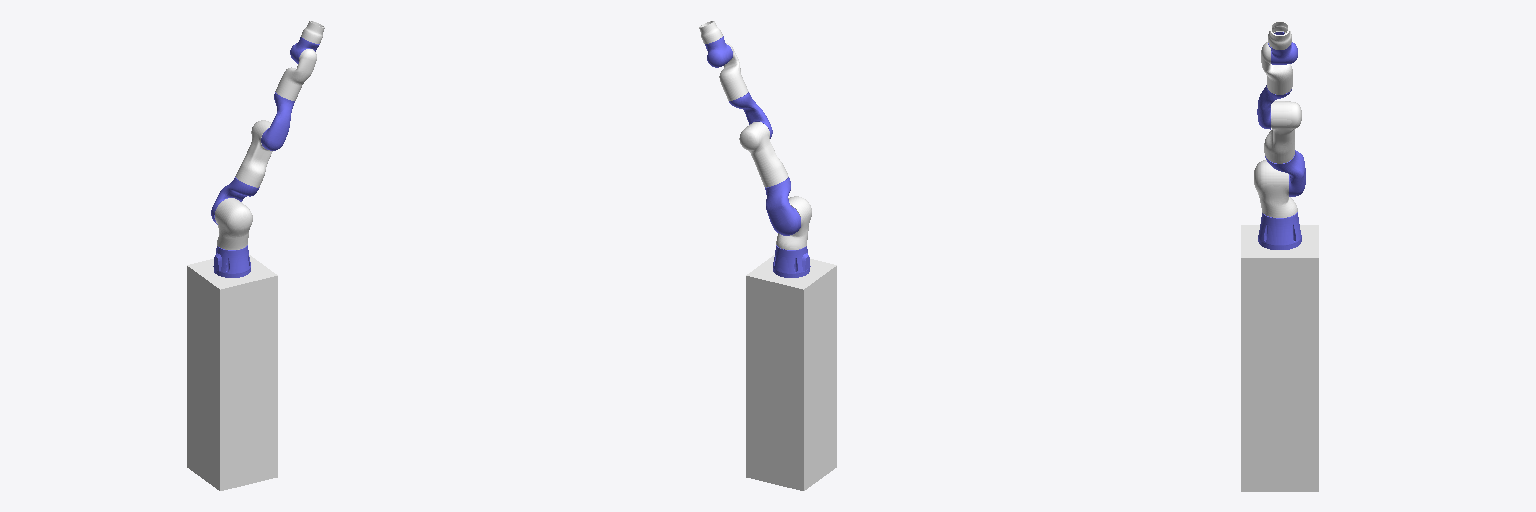
robot.urdf — optimo:
<?xml version="1.0" ?>
<!-- =================================================================================== -->
<!-- |    This document was autogenerated by xacro from optimo.xacro                   | -->
<!-- |    EDITING THIS FILE BY HAND IS NOT RECOMMENDED                                 | -->
<!-- =================================================================================== -->
<robot name="optimo">
  <material name="white">
    <color rgba="1.0 1.0 1.0 1.0"/>
  </material>
  <material name="blue">
    <color rgba="0.5 0.5 1 1.0"/>
  </material>
  <!-- Robot Pedestal -->
  <link name="stand">
    <visual>
      <origin rpy="0 0 0" xyz="0 0 0.0"/>
      <geometry>
        <box size="0.3 0.3 1"/>
      </geometry>
      <material name="white"/>
    </visual>
    <collision>
      <origin rpy="0 0 0" xyz="0 0 0.0"/>
      <geometry>
        <box size="0.3 0.3 1"/>
      </geometry>
    </collision>
    <inertial>
      <origin rpy="0 0 0" xyz="0 0 0.0"/>
      <mass value="1"/>
      <inertia ixx="0.1" ixy="0.0" ixz="0.0" iyy="0.1" iyz="0.0" izz="0.1"/>
    </inertial>
  </link>
  <joint name="stand_to_link0" type="fixed">
    <parent link="stand"/>
    <child link="link0"/>
    <!-- .27 puts the link on the stand -->
    <origin rpy="0 0 0" xyz="0 0 .77"/>
  </joint>
  <!-- Base Link -->
  <link name="link0">
    <visual>
      <geometry>
        <mesh filename="package://meshes/link0.stl"/>
      </geometry>
      <material name="blue"/>
    </visual>
    <collision>
      <geometry>
        <mesh filename="package://meshes/col0.stl"/>
      </geometry>
    </collision>
    <inertial>
      <!-- Doesn't matter, just placeholder values -->
      <origin xyz="0 0 0"/>
      <mass value="1"/>
      <inertia ixx="0.1" ixy="0.1" ixz="0.0" iyy="0.1" iyz="0.0" izz="0"/>
    </inertial>
  </link>
  <!-- Link 1 -->
  <link name="link1">
    <inertial>
      <origin xyz="0 0 0"/>
      <mass value="0.00"/>
      <inertia ixx="0.0" ixy="0.0" ixz="0.0" iyy="0.0" iyz="0.0" izz="0.0"/>
    </inertial>
  </link>
  <joint name="joint1" type="revolute">
    <origin rpy="0 0 0" xyz="0 0 0"/>
    <parent link="link0"/>
    <child link="link1"/>
    <axis xyz="0 0 1"/>
    <limit effort="79" lower="-2.792526902" upper="2.792526902" velocity="10"/>
    <dynamics damping="1" friction="0.1"/>
  </joint>
  <joint name="joint1_passive" type="fixed">
    <origin rpy="1.57 0 0" xyz="0 0 0"/>
    j
        
    <parent link="link1"/>
    <child link="link1_passive"/>
  </joint>
  <link name="link1_passive">
    <visual>
      <geometry>
        <mesh filename="package://meshes/link1.stl"/>
      </geometry>
      <material name="white"/>
    </visual>
    <collision>
      <geometry>
        <mesh filename="package://meshes/col1.stl"/>
      </geometry>
    </collision>
    <inertial>
      <origin xyz="0 -0.01635 0.01549"/>
      <mass value="4.152"/>
      <inertia ixx="0.01" ixy="0.000017" ixz="-.00001" iyy="0.007494" iyz="0.000213" izz="0.009939"/>
    </inertial>
  </link>
  <!-- Link 2 -->
  <link name="link2">
    <inertial>
      <origin xyz="0 0 0"/>
      <mass value="0.00"/>
      <inertia ixx="0.0" ixy="0.0" ixz="0.0" iyy="0.0" iyz="0.0" izz="0.0"/>
    </inertial>
  </link>
  <joint name="joint2" type="revolute">
    <origin rpy="0 0 0" xyz="0 0 0"/>
    <parent link="link1_passive"/>
    <child link="link2"/>
    <axis xyz="0 0 1"/>
    <limit effort="95" lower="1.134464013" upper="4.188790202" velocity="10"/>
    <dynamics damping="1" friction="0.1"/>
  </joint>
  <joint name="joint2_passive" type="fixed">
    <origin rpy="1.57 0 0" xyz="0 0 0"/>
    <parent link="link2"/>
    <child link="link2_passive"/>
  </joint>
  <link name="link2_passive">
    <visual>
      <geometry>
        <mesh filename="package://meshes/link2.stl"/>
      </geometry>
      <material name="blue"/>
    </visual>
    <collision>
      <geometry>
        <mesh filename="package://meshes/col2.stl"/>
      </geometry>
    </collision>
    <inertial>
      <origin xyz="0 -0.05063 0.05677"/>
      <mass value="1.72"/>
      <inertia ixx="0.005694" ixy="0" ixz="0" iyy="0.005902" iyz="0.001353" izz="0.002415"/>
    </inertial>
  </link>
  <!-- Link 3 -->
  <link name="link3">
    <inertial>
      <origin xyz="0 0 0"/>
      <mass value="0.00"/>
      <inertia ixx="0.0" ixy="0.0" ixz="0.0" iyy="0.0" iyz="0.0" izz="0.0"/>
    </inertial>
  </link>
  <joint name="joint3" type="revolute">
    <origin rpy="0 0 0" xyz="0 0 0.4"/>
    <parent link="link2_passive"/>
    <child link="link3"/>
    <axis xyz="0 0 1"/>
    <limit effort="32" lower="-2.792526902" upper="2.792526902" velocity="10"/>
    <dynamics damping="1" friction="0.1"/>
  </joint>
  <joint name="joint3_passive" type="fixed">
    <origin rpy="-1.57 0 0" xyz="0 0 0"/>
    <parent link="link3"/>
    <child link="link3_passive"/>
  </joint>
  <link name="link3_passive">
    <visual>
      <geometry>
        <mesh filename="package://meshes/link3.stl"/>
      </geometry>
      <material name="white"/>
    </visual>
    <collision>
      <geometry>
        <mesh filename="package://meshes/col3.stl"/>
      </geometry>
    </collision>
    <inertial>
      <!-- Inertia values taken from yaml, but these seem like they cannot be
            accurate...-->
      <origin xyz="-0.000039 .098 0"/>
      <mass value="4.310"/>
      <inertia ixx="0.012989" ixy="-0.000015" ixz="-.000003" iyy="0.002584" iyz="0.000632" izz="0.01305"/>
    </inertial>
  </link>
  <!-- Link 4 -->
  <link name="link4">
    <inertial>
      <origin xyz="0 0 0"/>
      <mass value="0.00"/>
      <inertia ixx="0.0" ixy="0.0" ixz="0.0" iyy="0.0" iyz="0.0" izz="0.0"/>
    </inertial>
  </link>
  <joint name="joint4" type="revolute">
    <origin rpy="0 0 0" xyz="0 0 0"/>
    <parent link="link3_passive"/>
    <child link="link4"/>
    <axis xyz="0 0 1"/>
    <limit effort="40" lower="-2.443460951" upper="2.443460951" velocity="10"/>
    <dynamics damping="1" friction="0.1"/>
  </joint>
  <joint name="joint4_passive" type="fixed">
    <origin rpy="1.57 0 0" xyz="0 0 0"/>
    <parent link="link4"/>
    <child link="link4_passive"/>
  </joint>
  <link name="link4_passive">
    <visual>
      <geometry>
        <mesh filename="package://meshes/link4.stl"/>
      </geometry>
      <material name="blue"/>
    </visual>
    <collision>
      <geometry>
        <mesh filename="package://meshes/col4.stl"/>
      </geometry>
    </collision>
    <inertial>
      <origin xyz="-.00001 0.048852 0.0688"/>
      <mass value="1.09"/>
      <inertia ixx="0.004297" ixy="0" ixz="0" iyy="0.004366" iyz="-0.0008" izz="0.000988"/>
    </inertial>
  </link>
  <!-- Link 5 -->
  <link name="link5">
    <inertial>
      <origin xyz="0 0 0"/>
      <mass value="0.00"/>
      <inertia ixx="0.0" ixy="0.0" ixz="0.0" iyy="0.0" iyz="0.0" izz="0.0"/>
    </inertial>
  </link>
  <joint name="joint5" type="revolute">
    <origin rpy="0 0 0" xyz="0 0 0.4"/>
    <parent link="link4_passive"/>
    <child link="link5"/>
    <axis xyz="0 0 1"/>
    <limit effort="15" lower="-2.879793264" upper="2.879793264" velocity="10"/>
    <dynamics damping="1" friction="0.1"/>
  </joint>
  <joint name="joint5_passive" type="fixed">
    <origin rpy="-1.57 0 0" xyz="0 0 0"/>
    <parent link="link5"/>
    <child link="link5_passive"/>
  </joint>
  <link name="link5_passive">
    <visual>
      <geometry>
        <mesh filename="package://meshes/link5.stl"/>
      </geometry>
      <material name="white"/>
    </visual>
    <collision>
      <geometry>
        <mesh filename="package://meshes/col5.stl"/>
      </geometry>
    </collision>
    <inertial>
      <origin xyz=".001262 0.085 0.008"/>
      <mass value="2.23"/>
      <inertia ixx="0.005744" ixy="-0.00021" ixz="-0.000027" iyy="0.0018" iyz="-0.001278" izz="0.005457"/>
    </inertial>
  </link>
  <!-- Link 6 -->
  <link name="link6">
    <inertial>
      <origin xyz="0 0 0"/>
      <mass value="0.00"/>
      <inertia ixx="0.0" ixy="0.0" ixz="0.0" iyy="0.0" iyz="0.0" izz="0.0"/>
    </inertial>
  </link>
  <joint name="joint6" type="revolute">
    <origin rpy="0 0 0" xyz="0 0 0"/>
    <parent link="link5_passive"/>
    <child link="link6"/>
    <axis xyz="0 0 1"/>
    <limit effort="15" lower="-2.007128639" upper="2.007128639" velocity="10"/>
    <dynamics damping="1" friction="0.1"/>
  </joint>
  <joint name="joint6_passive" type="fixed">
    <origin rpy="1.57 0 0" xyz="0 0 0"/>
    <parent link="link6"/>
    <child link="link6_passive"/>
  </joint>
  <link name="link6_passive">
    <visual>
      <geometry>
        <mesh filename="package://meshes/link6.stl"/>
      </geometry>
      <material name="blue"/>
    </visual>
    <collision>
      <geometry>
        <mesh filename="package://meshes/col6.stl"/>
      </geometry>
    </collision>
    <inertial>
      <origin xyz="0 -0.00007 0.010855"/>
      <mass value="1.138"/>
      <inertia ixx="0.000634" ixy="0" ixz="0" iyy="0.000629" iyz="0" izz="0.000546"/>
    </inertial>
  </link>
  <!-- Link 7 -->
  <link name="link7">
    <inertial>
      <origin xyz="0 0 0"/>
      <mass value="0.00"/>
      <inertia ixx="0.0" ixy="0.0" ixz="0.0" iyy="0.0" iyz="0.0" izz="0.0"/>
    </inertial>
  </link>
  <joint name="joint7" type="revolute">
    <origin rpy="0 0 0" xyz="0 0 0"/>
    <parent link="link6_passive"/>
    <child link="link7"/>
    <axis xyz="0 0 1"/>
    <limit effort="15" lower="-2.617993876" upper="2.617993876" velocity="10"/>
    <dynamics damping="1" friction="0.1"/>
  </joint>
  <joint name="joint7_passive" type="fixed">
    <origin rpy="0 0 0" xyz="0 0 0"/>
    <parent link="link7"/>
    <child link="link7_passive"/>
  </joint>
  <link name="link7_passive">
    <visual>
      <geometry>
        <mesh filename="package://meshes/link7.stl"/>
      </geometry>
      <material name="white"/>
    </visual>
    <collision>
      <geometry>
        <mesh filename="package://meshes/col7.stl"/>
      </geometry>
    </collision>
    <inertial>
      <origin xyz="0 0 0.2"/>
      <mass value="1.246"/>
      <inertia ixx="0.005541" ixy=".000045" ixz="0.000077" iyy="0.004779" iyz="0.000043" izz="0.001723"/>
    </inertial>
  </link>
  <!-- End Effector -->
  <joint name="ee_joint" type="fixed">
    <origin rpy="0 0 0" xyz="0 0 0.33"/>
    <parent link="link7_passive"/>
    <child link="ee"/>
  </joint>
  <link name="ee">
    <inertia>
      <origin rpy="0 0 0" xyz="0 0 0"/>
      <mass value="0.00"/>
      <inertia ixx="0.0" ixy="0.0" ixz="0.0" iyy="0.0" iyz="0.0" izz="0.0"/>
    </inertia>
  </link>
</robot>

--- Render facts (derived) ---
The picture shows the robot from 3 angles, left to right: view 1: azimuth 30°, elevation 25°; view 2: azimuth 150°, elevation 25°; view 3: azimuth 270°, elevation 25°; orthographic projection.
Model optimo with 17 links and 16 joints (7 revolute, 9 fixed), rooted at stand, posed all joints at 0 but 1 set to mid-range because 0 is outside their limits (joint2 = 2.66).
Visible links, largest first — view 1: stand, link1_passive, link3_passive, link5_passive, link4_passive, link0, link2_passive; view 2: stand, link3_passive, link2_passive, link0, link1_passive, link5_passive, link4_passive, link6_passive; view 3: stand, link3_passive, link1_passive, link0, link5_passive, link2_passive, link4_passive, link7_passive.
Link boxes in pixels (left/top/right/bottom): stand: left=187, top=255, right=277, bottom=490; link1_passive: left=215, top=198, right=252, bottom=249; link3_passive: left=235, top=120, right=272, bottom=187; link5_passive: left=275, top=49, right=316, bottom=100; link4_passive: left=261, top=92, right=294, bottom=150; link0: left=213, top=245, right=250, bottom=277; link2_passive: left=211, top=177, right=259, bottom=224; stand: left=746, top=255, right=836, bottom=490; link3_passive: left=739, top=122, right=788, bottom=187; link2_passive: left=765, top=177, right=800, bottom=235; link0: left=773, top=245, right=810, bottom=277; link1_passive: left=776, top=196, right=811, bottom=249; link5_passive: left=719, top=43, right=748, bottom=100; link4_passive: left=729, top=92, right=772, bottom=138; link6_passive: left=705, top=36, right=732, bottom=67; stand: left=1241, top=225, right=1318, bottom=491; link3_passive: left=1264, top=101, right=1301, bottom=163; link1_passive: left=1254, top=160, right=1297, bottom=217; link0: left=1258, top=212, right=1301, bottom=249; link5_passive: left=1261, top=42, right=1292, bottom=94; link2_passive: left=1265, top=150, right=1305, bottom=196; link4_passive: left=1257, top=85, right=1291, bottom=129; link7_passive: left=1268, top=20, right=1291, bottom=49.
Bounding box of the posed robot: 0.6252 × 0.3 × 2.13 m (x, y, z).
Meshes: 8 distinct files referenced, 8 mesh visuals loaded (8 binary STL).